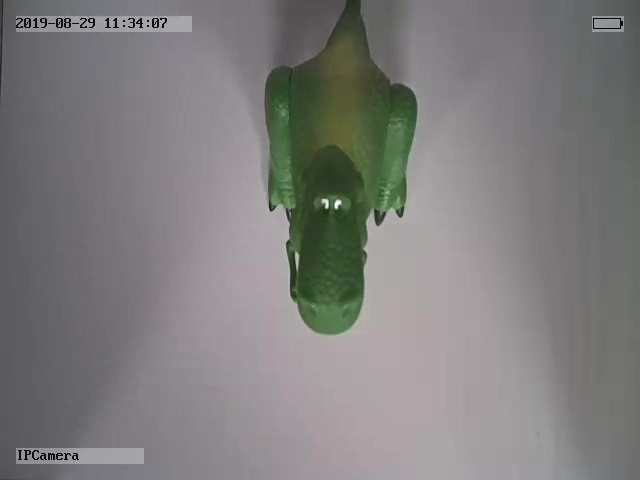rex: (261, 2, 416, 336)
